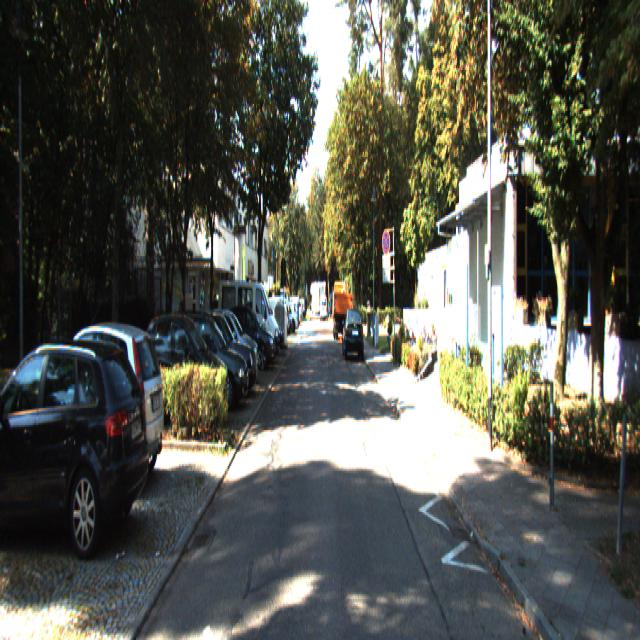Car: (0, 331, 151, 556), (28, 312, 168, 495), (137, 308, 231, 431), (164, 311, 250, 414), (175, 305, 258, 398), (184, 309, 260, 390), (213, 306, 276, 372), (342, 307, 364, 362)
DontCare: (283, 274, 328, 338)
Truck: (332, 279, 354, 342)
Van: (218, 283, 280, 366)
